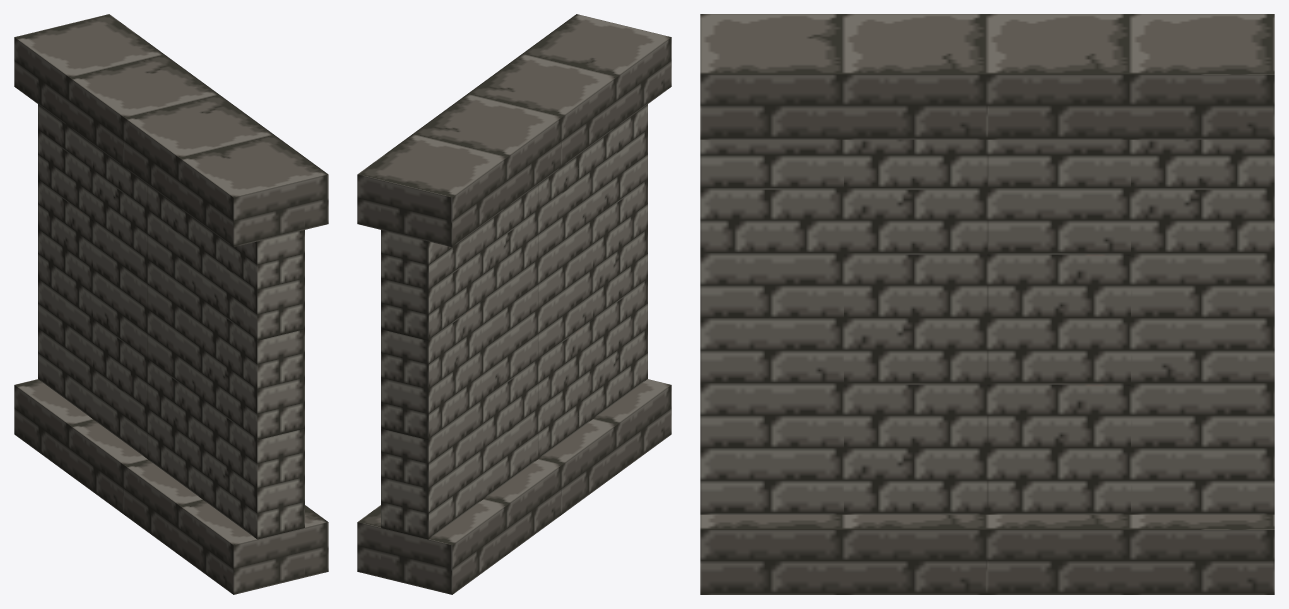
The model's file is Wall_Full_x4.fbx.
3 views of the same model, side by side, from view 1: azimuth 30°, elevation 25°; view 2: azimuth 150°, elevation 25°; view 3: azimuth 270°, elevation 25° (orthographic). The views are drawn at different scales.
Visible parts, largest first — view 1: Wall_Full_x4; view 2: Wall_Full_x4; view 3: Wall_Full_x4.
Boxes of the visible parts, x1=… form: Wall_Full_x4: x1=14, y1=14, x2=328, y2=594; Wall_Full_x4: x1=357, y1=14, x2=671, y2=594; Wall_Full_x4: x1=700, y1=14, x2=1274, y2=594.
Size of the model in its own units: 200 by 800 by 800.
Materials: 1 (1 with a texture image).
